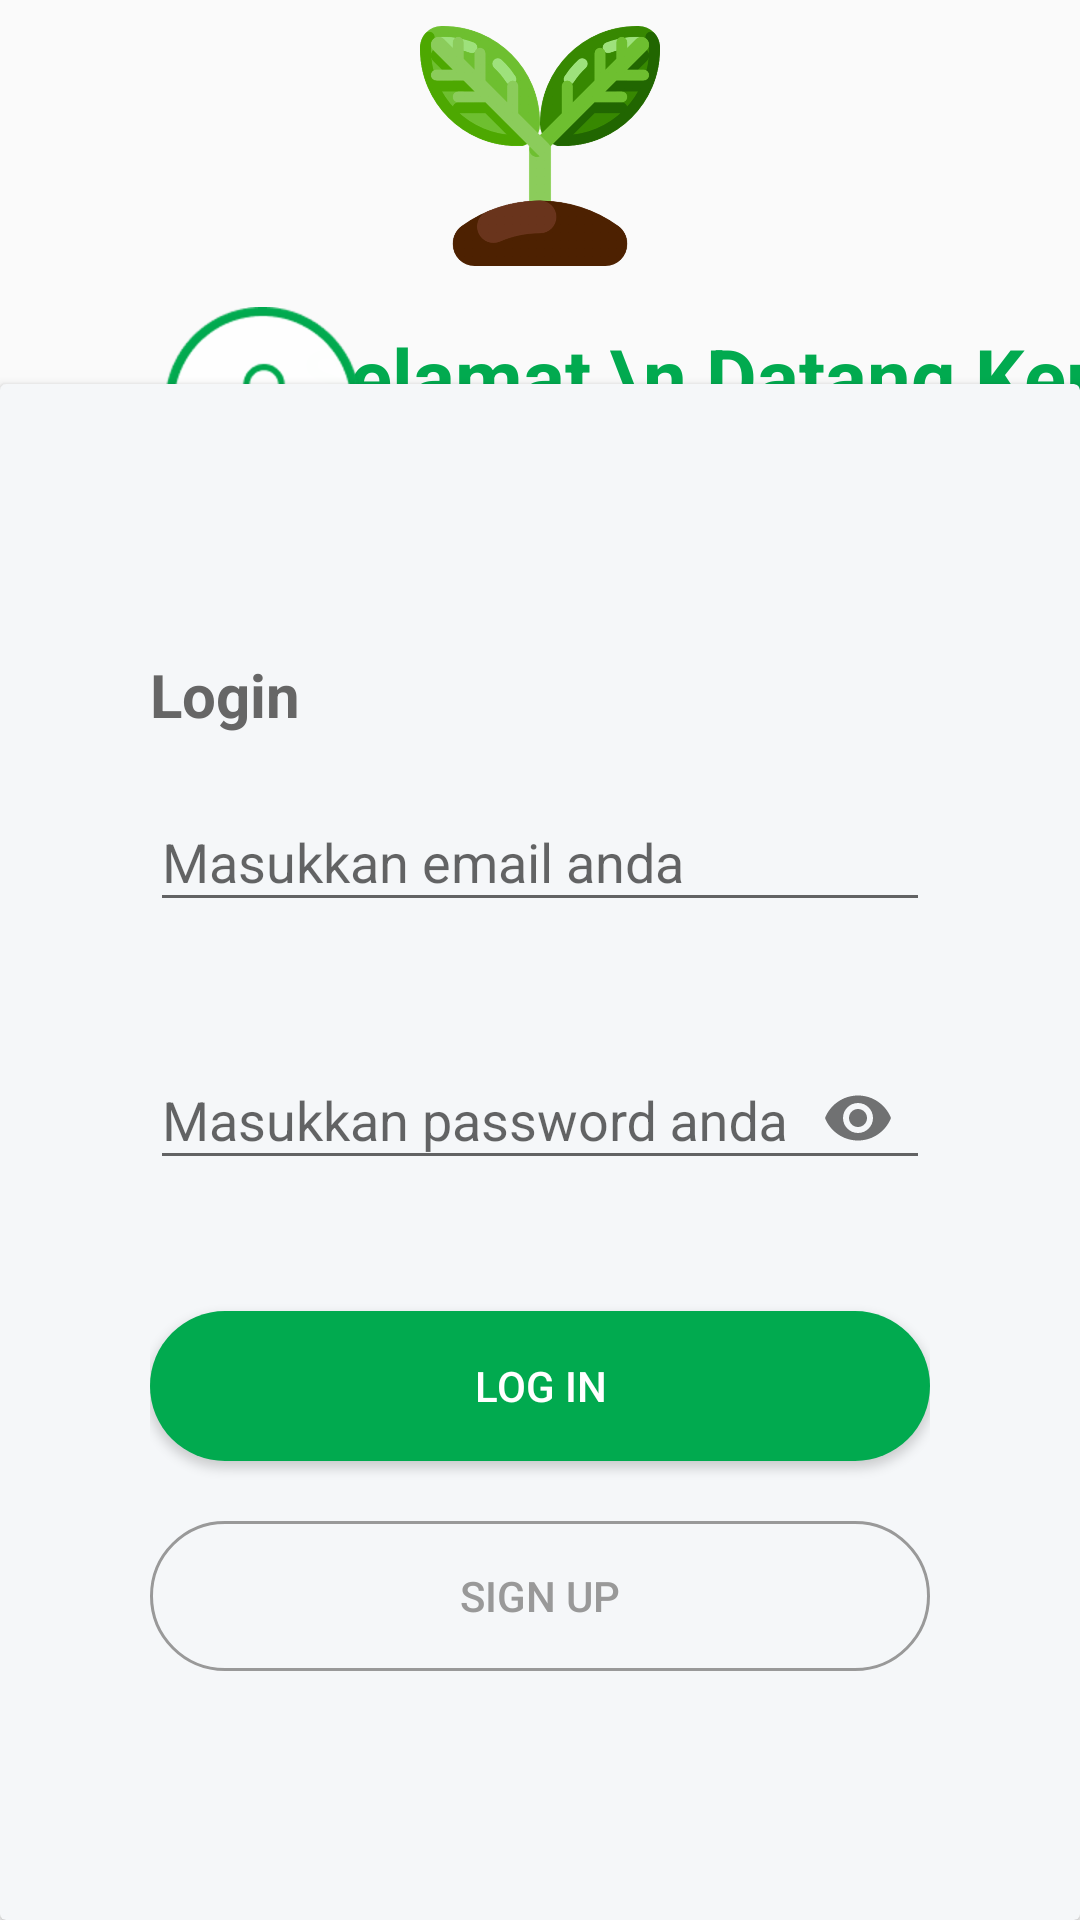

Where to tap for icons on this 1080×1920 app screen, as point (x, y):
plant: point (540, 146)
